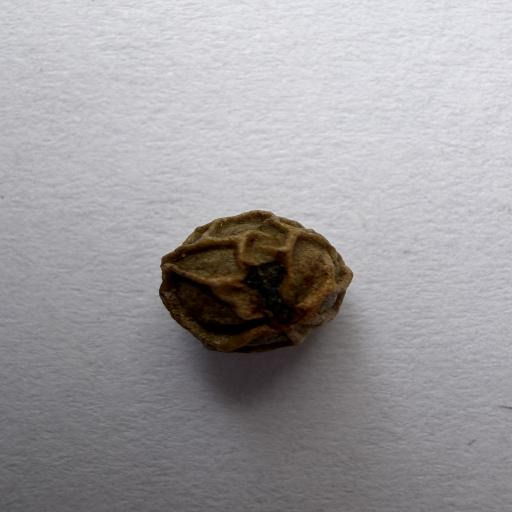Black_pepper: (120, 184, 362, 384)
